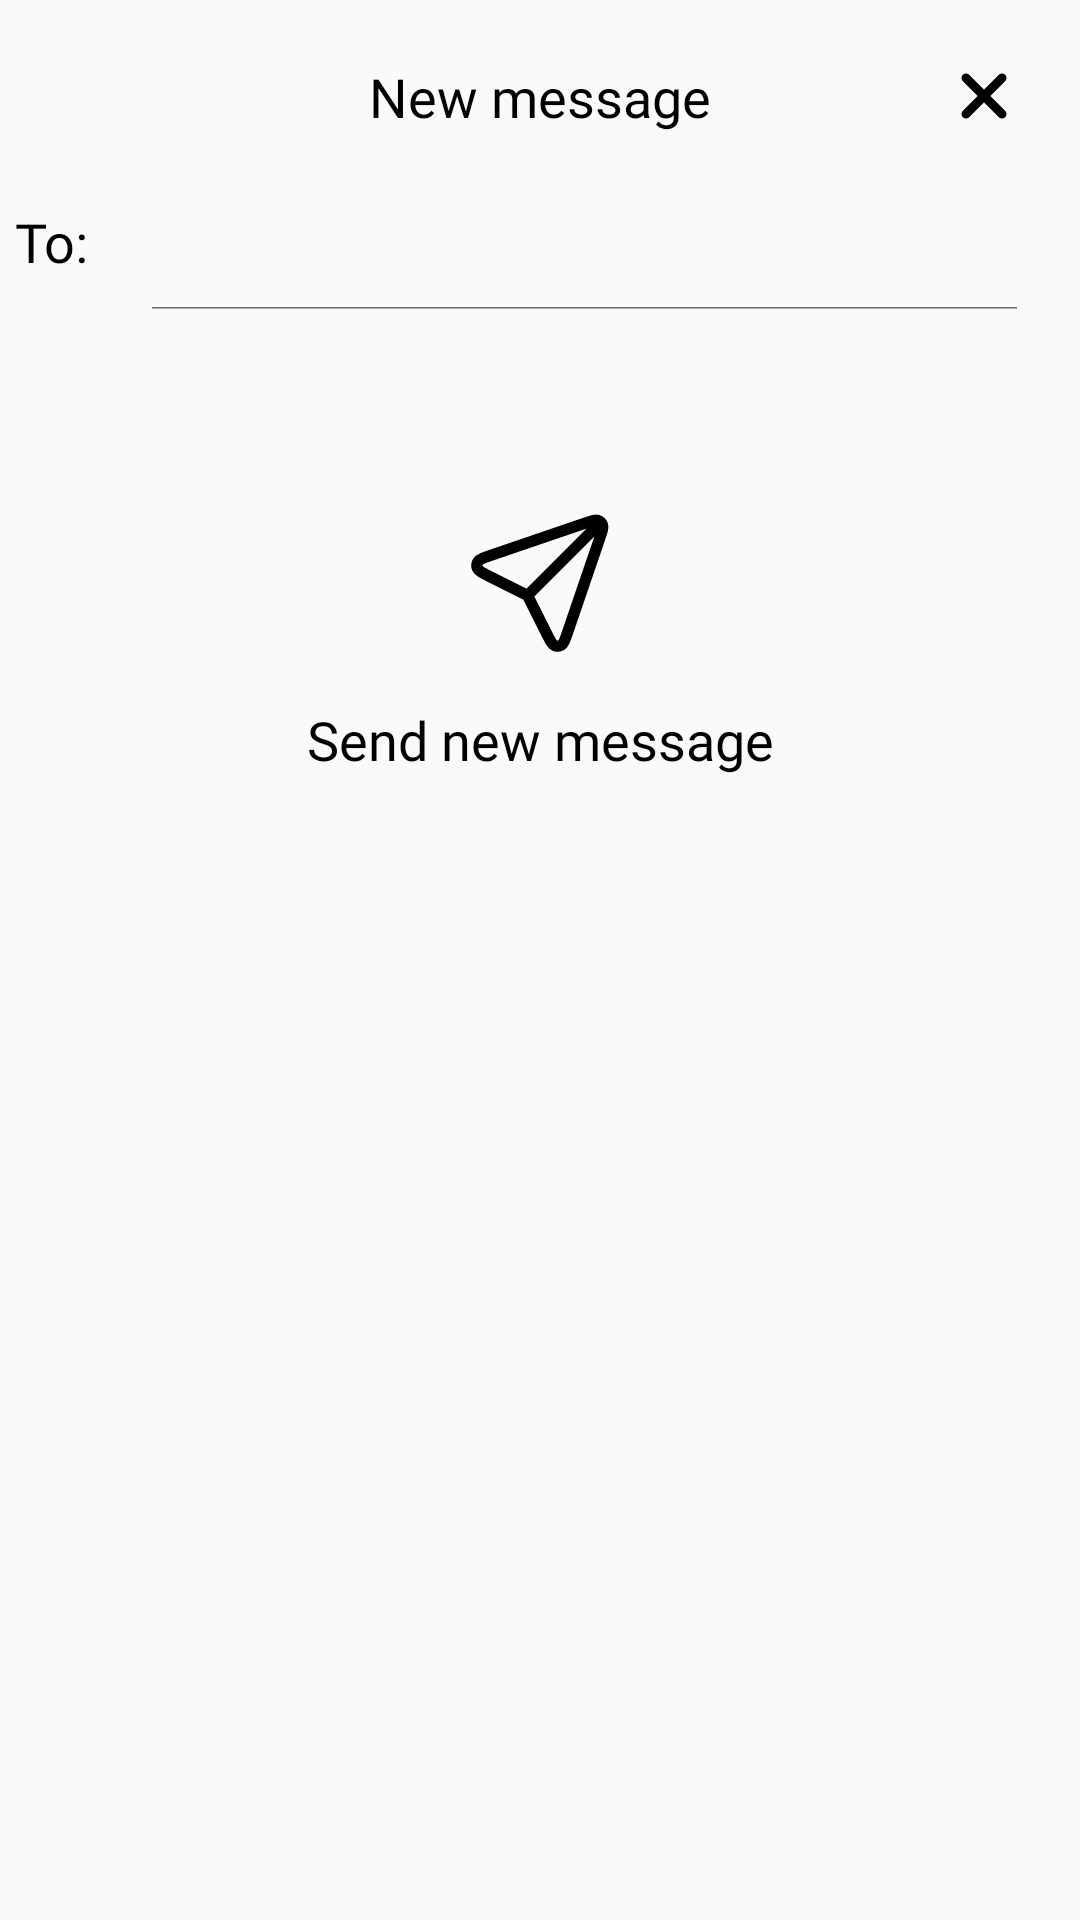

Icon click points for this 1080*1920 phone screenshot, format point (x, y):
close: point (984, 96)
